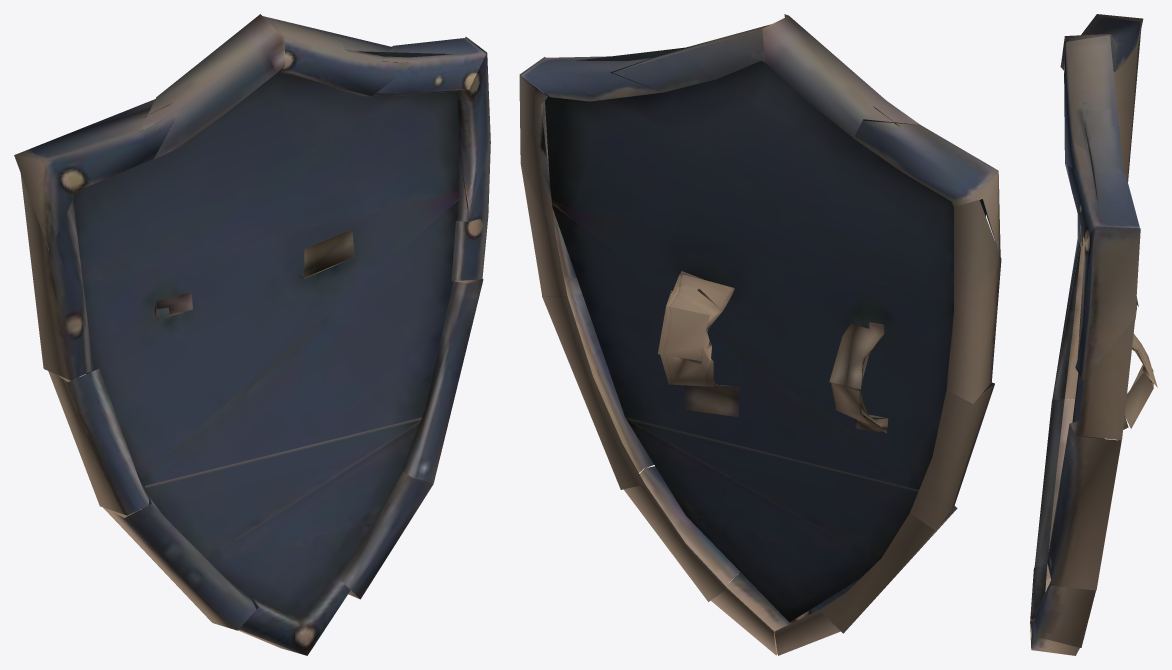
Rendered from g_shield_crest_lod1.fbx.
The picture shows the model from 3 angles, left to right: view 1: azimuth 30°, elevation 25°; view 2: azimuth 150°, elevation 25°; view 3: azimuth 270°, elevation 25°; orthographic projection. The views are drawn at different scales.
Parts seen in each view (by area): view 1: tripo_node_d0828fa2-9e41-4022-a397-787096797569; view 2: tripo_node_d0828fa2-9e41-4022-a397-787096797569; view 3: tripo_node_d0828fa2-9e41-4022-a397-787096797569.
Part boxes in pixels (x1,y1,x2,y2): tripo_node_d0828fa2-9e41-4022-a397-787096797569: (14, 14, 490, 655); tripo_node_d0828fa2-9e41-4022-a397-787096797569: (519, 14, 1001, 655); tripo_node_d0828fa2-9e41-4022-a397-787096797569: (1030, 14, 1157, 655).
Bounding box in the file's own units: 0.7237 × 0.9509 × 0.1777.
